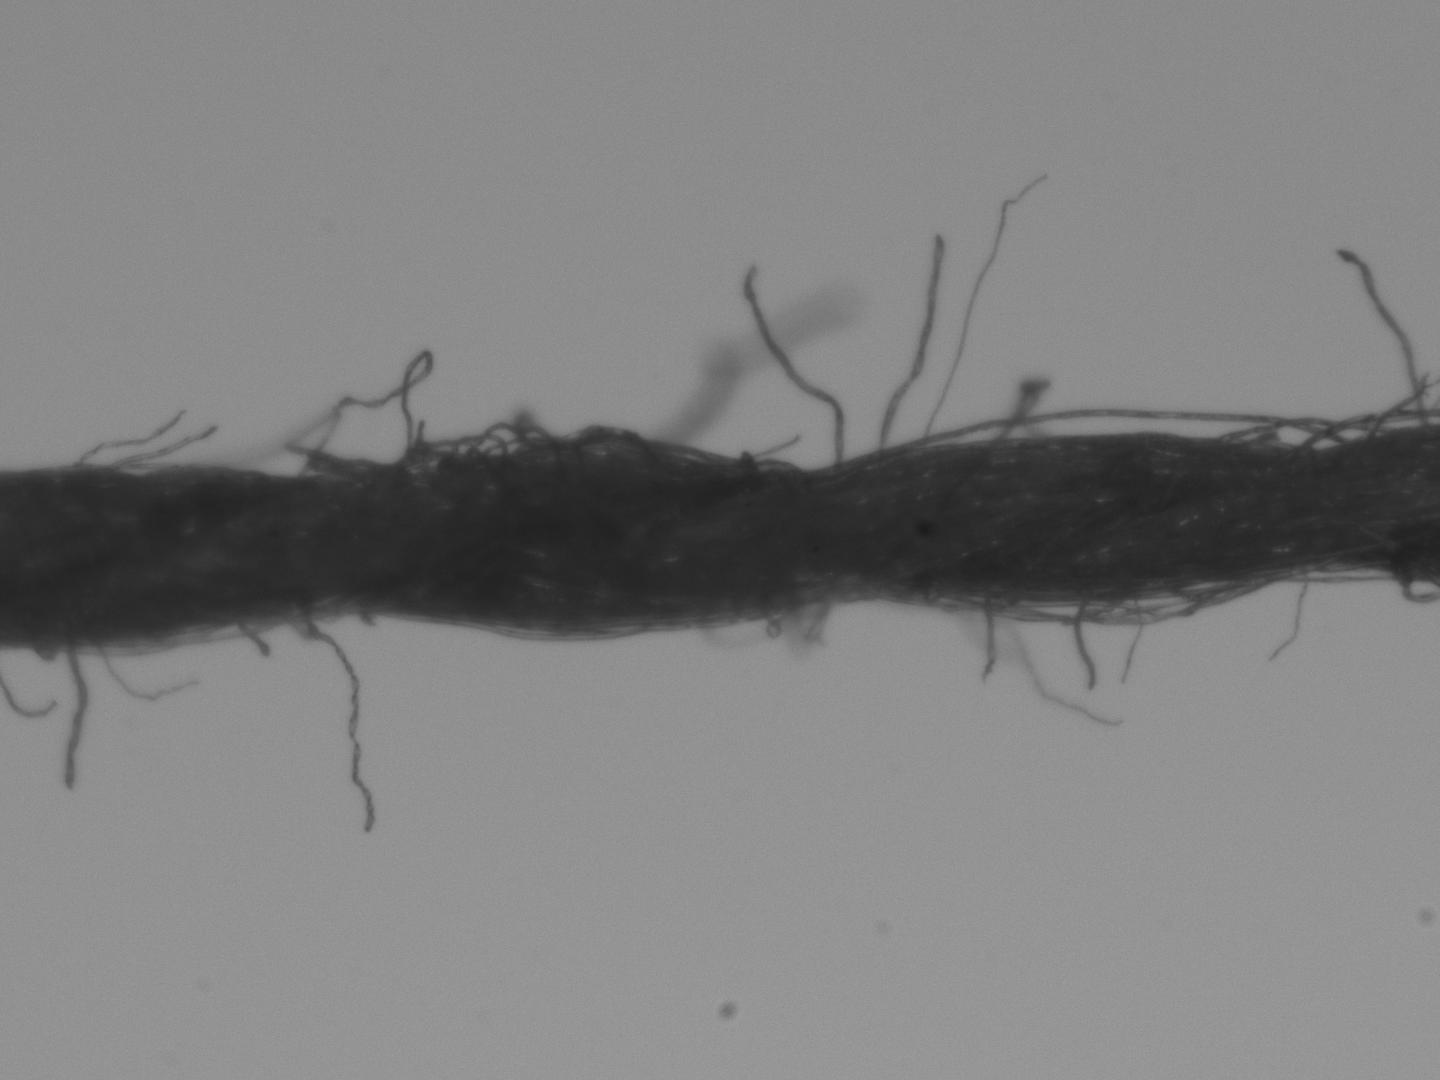loop_fiber: (884, 405, 1338, 452), (945, 591, 1124, 623), (1168, 567, 1294, 606), (144, 616, 278, 650), (105, 459, 176, 479)
protruding_fiber: (740, 262, 849, 467), (299, 606, 376, 837), (1335, 250, 1431, 431), (873, 230, 943, 450), (63, 642, 86, 788), (973, 598, 998, 685), (1075, 596, 1098, 689)
